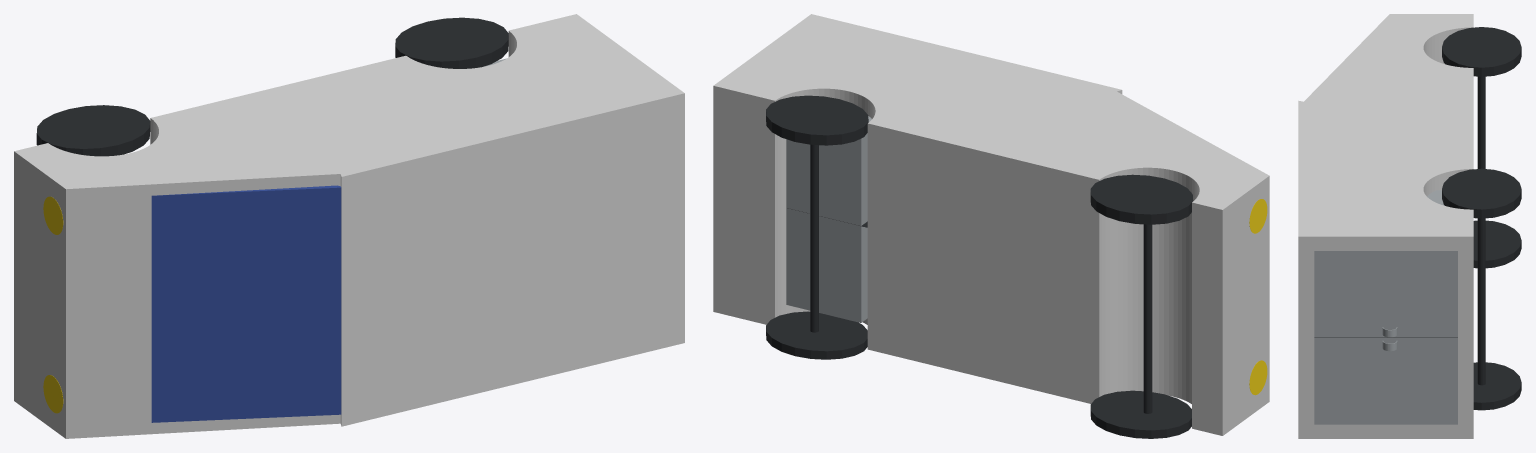
The model's file is tinker.obj.
3 views of the same model, side by side, from view 1: azimuth 30°, elevation 25°; view 2: azimuth 150°, elevation 25°; view 3: azimuth 270°, elevation 25° (orthographic). The views are drawn at different scales.
Visible parts, largest first — view 1: group_0_16448250, group_0_3888547, group_0_2829873, group_0_16768282; view 2: group_0_16448250, group_0_2829873, group_0_10988977, group_0_16768282; view 3: group_0_16448250, group_0_10988977, group_0_2829873.
Boxes of the visible parts, <box> form: group_0_16448250: <box>14,14,684,438</box>; group_0_3888547: <box>151,185,341,422</box>; group_0_2829873: <box>36,17,508,156</box>; group_0_16768282: <box>43,196,63,413</box>; group_0_16448250: <box>713,14,1269,435</box>; group_0_2829873: <box>766,95,1193,438</box>; group_0_10988977: <box>786,116,871,322</box>; group_0_16768282: <box>1249,199,1267,395</box>; group_0_16448250: <box>1298,14,1473,438</box>; group_0_10988977: <box>1314,190,1457,424</box>; group_0_2829873: <box>1314,27,1521,410</box>.
Size of the model in its own units: 33.51 by 14 by 14.
